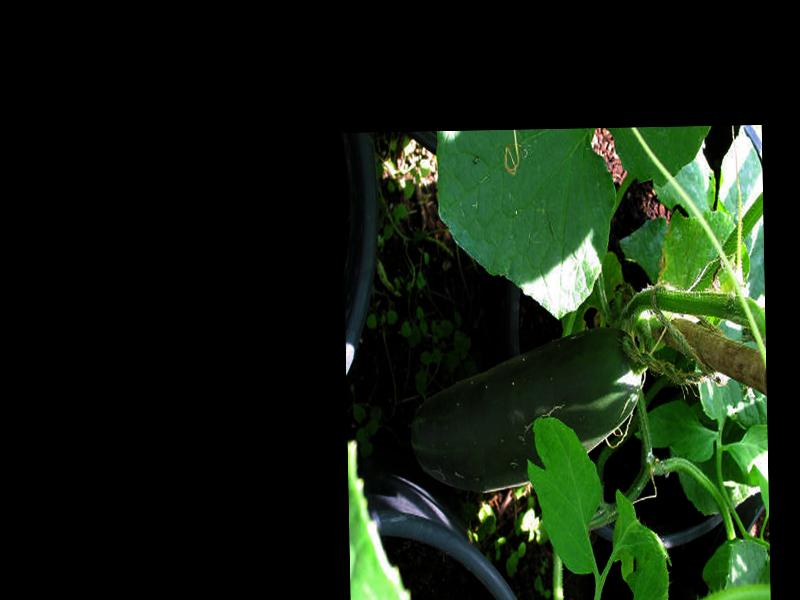Cucumber: (408, 325, 645, 492)
